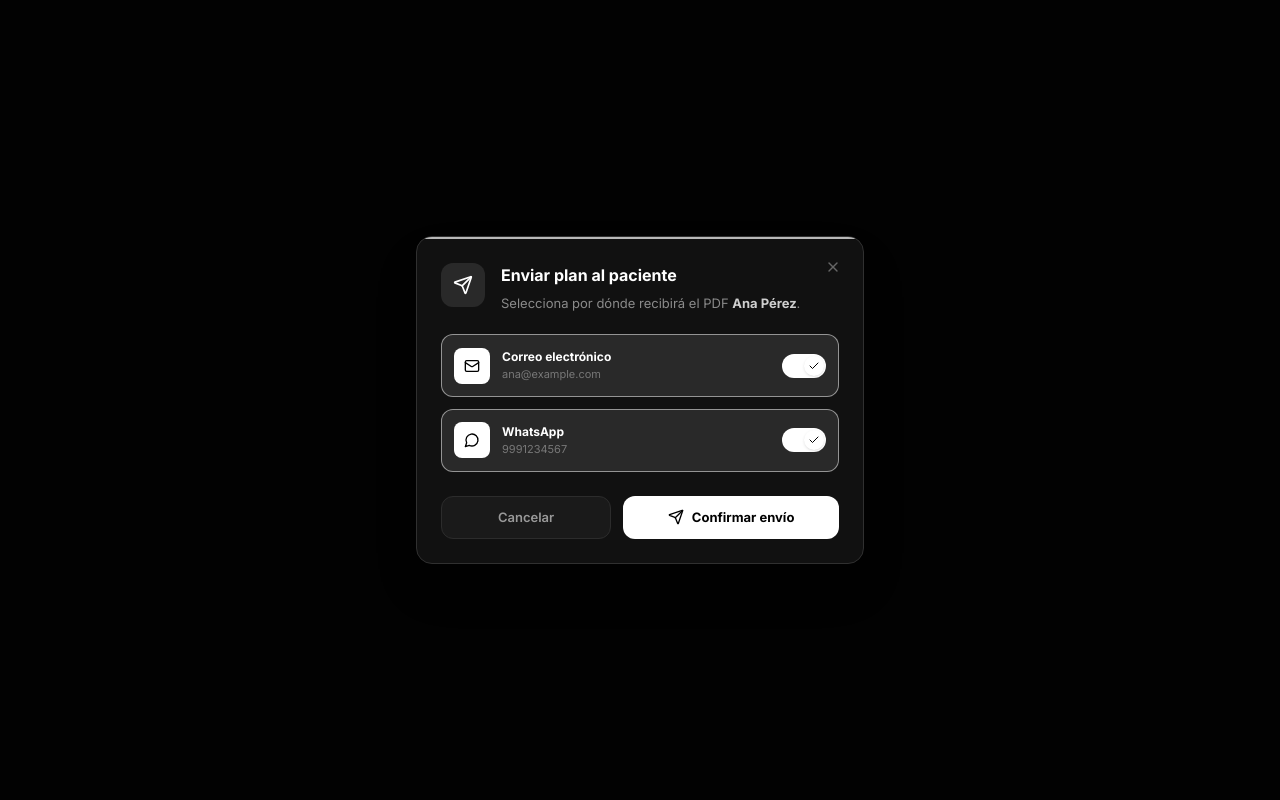
Test case: PlanDeliveryDialog › bloquea la confirmación cuando no queda ningún canal seleccionado
Click the switch labelled "Correo electrónico ana@example.com".
click(472, 366)  # box [441,334,839,397]
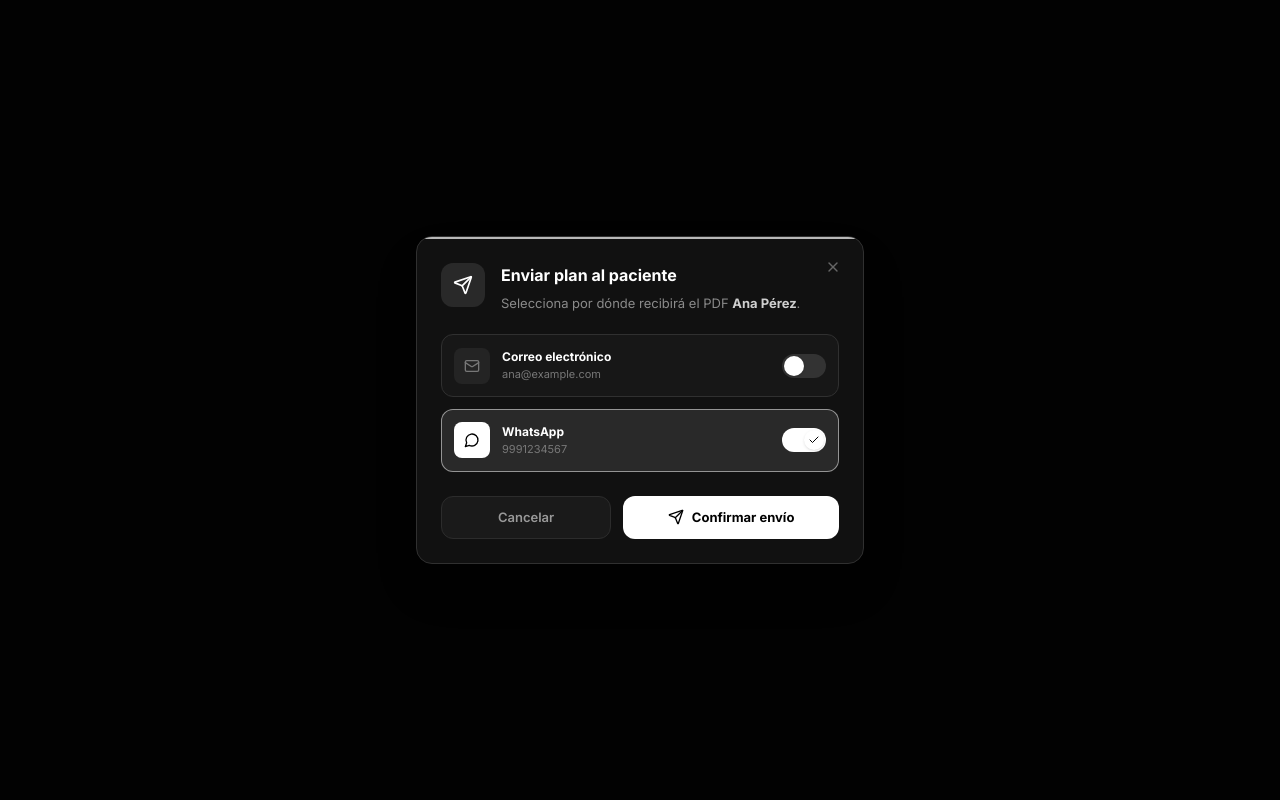
Click the switch labelled "WhatsApp 9991234567".
click(472, 440)  # box [441,409,839,472]
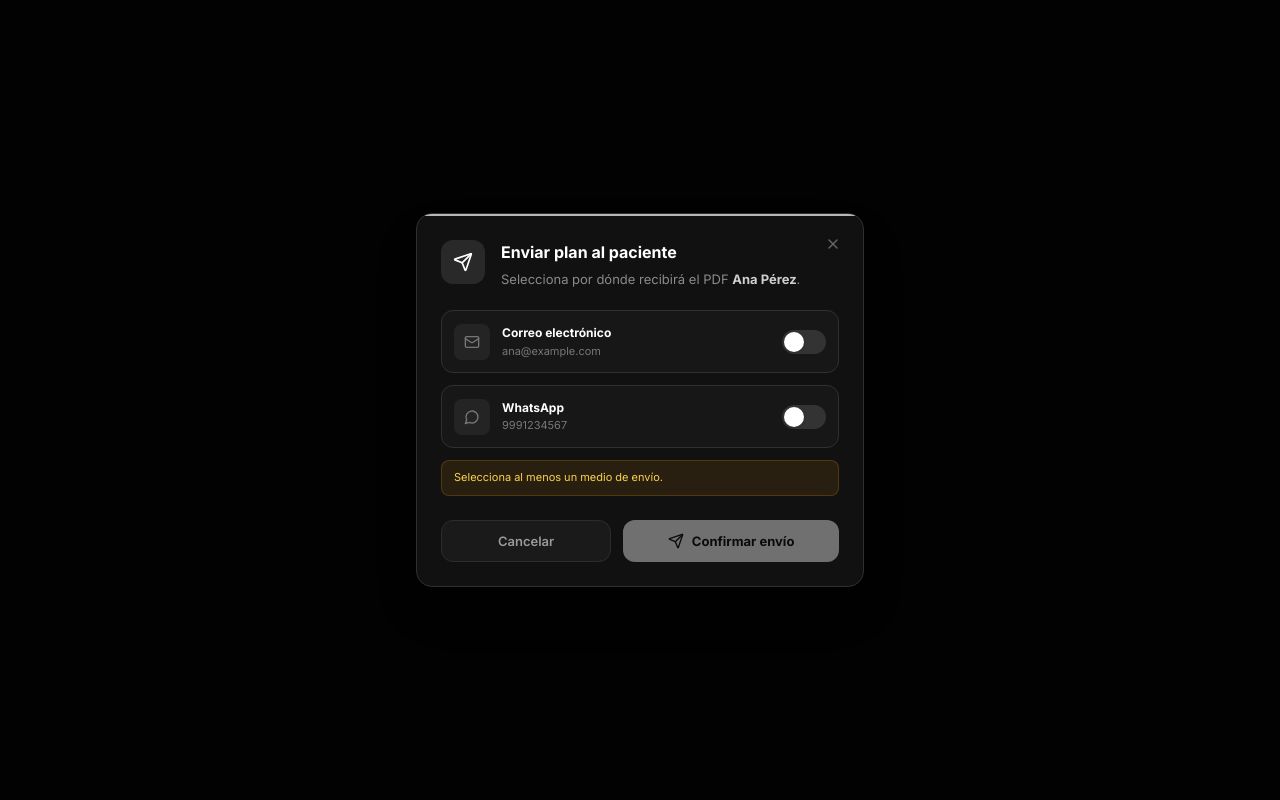
Expected: the text "Selecciona al menos un medio de envío." is shown, [441,460,839,496]
Expected: the button "Confirmar envío" is disabled, [623,520,839,562]
